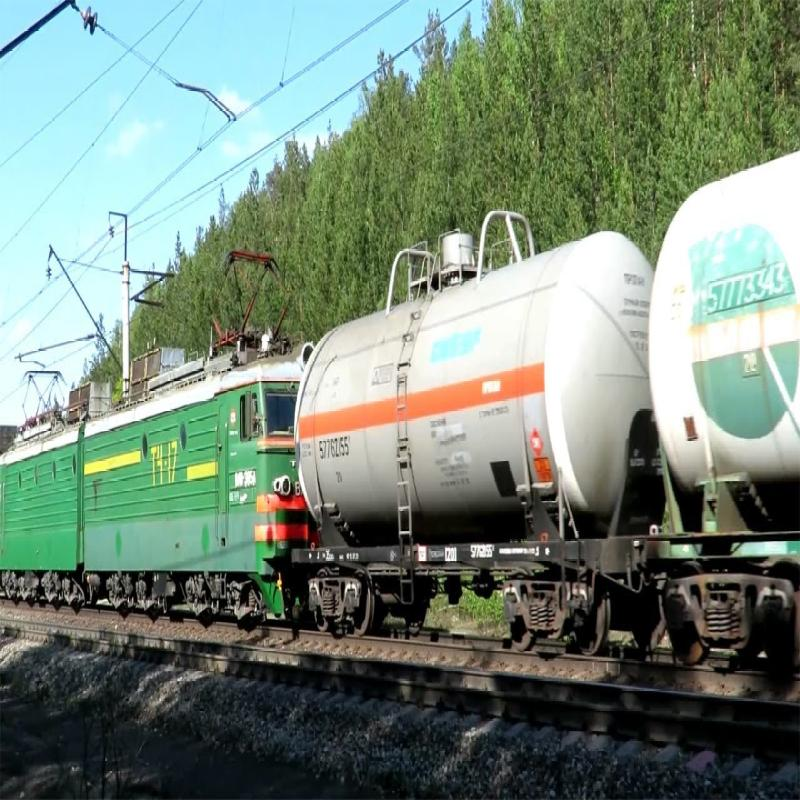train: (286, 147, 800, 678), (1, 282, 322, 653)
